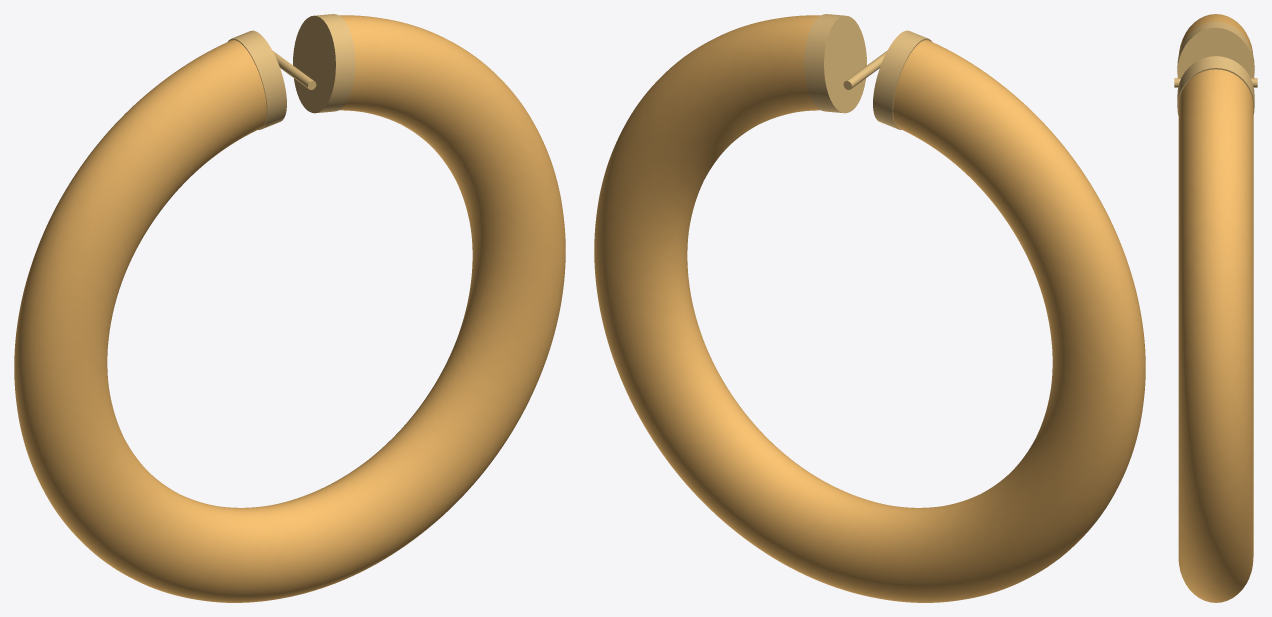
File: amber-sandhya-hoops.glb
3 views of the same model, side by side, from view 1: azimuth 30°, elevation 25°; view 2: azimuth 150°, elevation 25°; view 3: azimuth 270°, elevation 25° (orthographic). The views are drawn at different scales.
Visible parts, largest first — view 1: amber-sandhya-hoops; view 2: amber-sandhya-hoops; view 3: amber-sandhya-hoops.
Part boxes in pixels (x1,y1,x2,y2): amber-sandhya-hoops: (14, 14, 565, 602); amber-sandhya-hoops: (594, 14, 1145, 602); amber-sandhya-hoops: (1174, 14, 1257, 602).
Bounding box in the file's own units: 4.38 × 4.38 × 0.6202.
